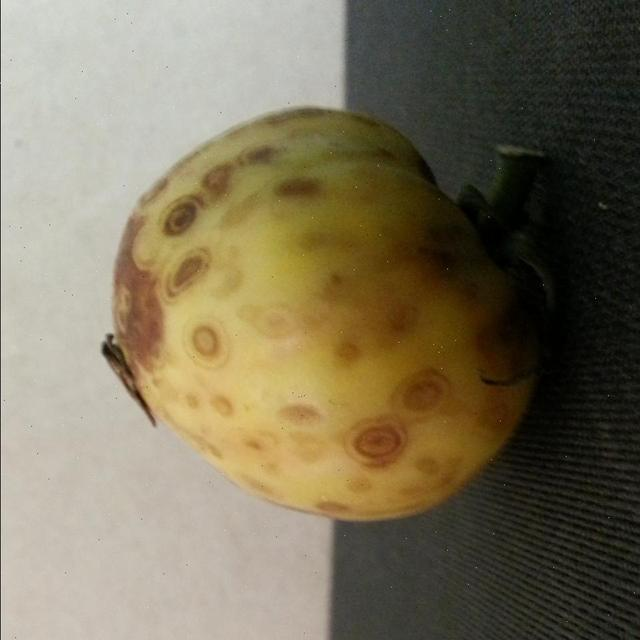Spotted wilt Virus Fruit: (54, 143, 217, 471)
